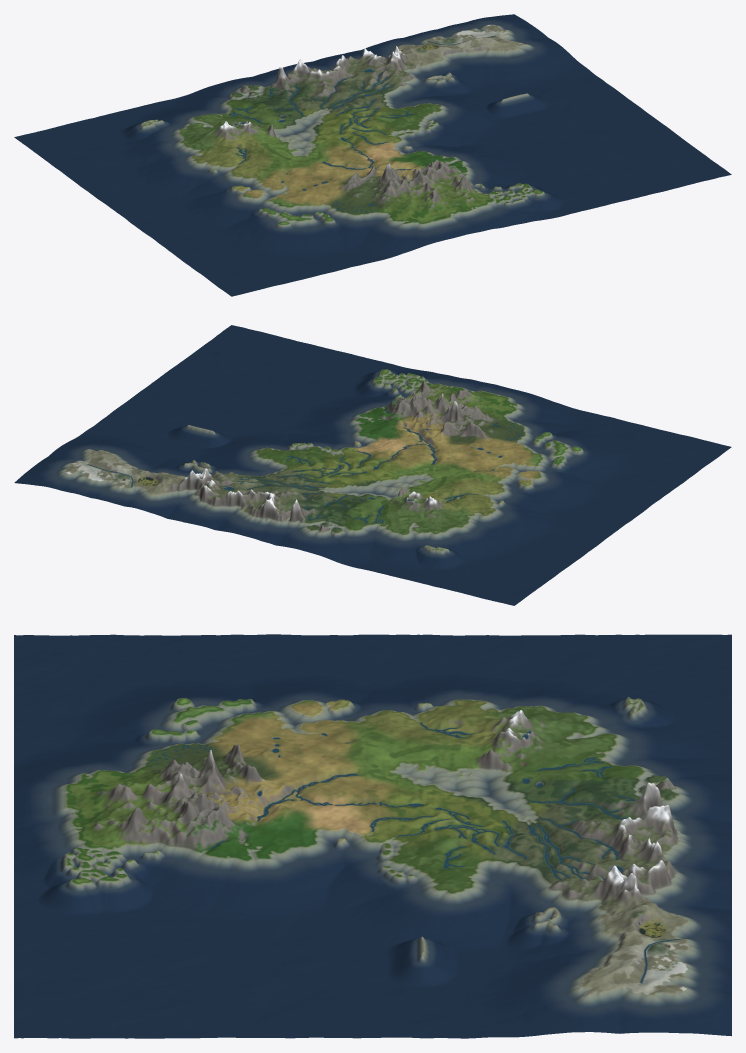
Rendered from polari.glb.
3 renders of one model, top to bottom at view 1: azimuth 30°, elevation 25°; view 2: azimuth 150°, elevation 25°; view 3: azimuth 270°, elevation 25°, orthographic. The views are drawn at different scales.
Parts seen in each view (by area): view 1: PolariTerrain; view 2: PolariTerrain; view 3: PolariTerrain.
Part boxes in pixels (x1=…): PolariTerrain: x1=14, y1=14, x2=731, y2=296; PolariTerrain: x1=14, y1=325, x2=731, y2=605; PolariTerrain: x1=14, y1=634, x2=731, y2=1038.
Bounding box in the file's own units: 32 × 2.27 × 24.1.
Materials: 1 (1 with a texture image).
